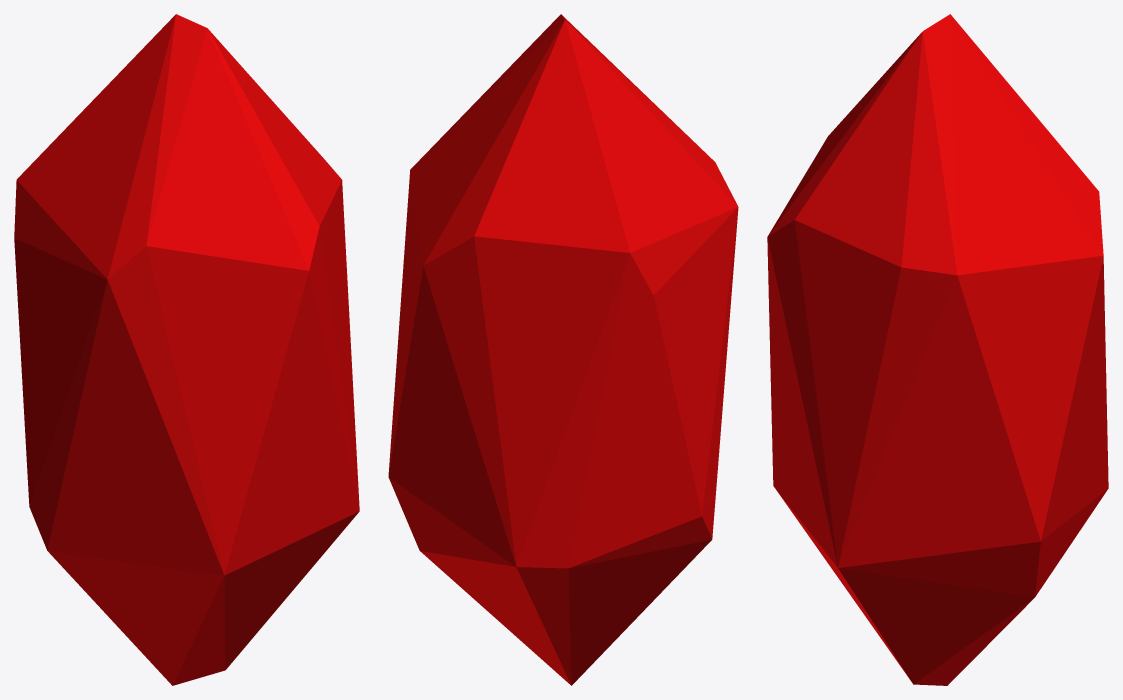
File: Cristal.003.fbx
3 renders of one model, left to right at view 1: azimuth 30°, elevation 25°; view 2: azimuth 150°, elevation 25°; view 3: azimuth 270°, elevation 25°, orthographic.
Visible parts, largest first — view 1: Icosphere.001; view 2: Icosphere.001; view 3: Icosphere.001.
Boxes of the visible parts, left/top/right/bottom form: Icosphere.001: left=14, top=14, right=359, bottom=685; Icosphere.001: left=388, top=14, right=738, bottom=685; Icosphere.001: left=767, top=14, right=1108, bottom=685.
Bounding box in the file's own units: 209 × 454 × 208.
